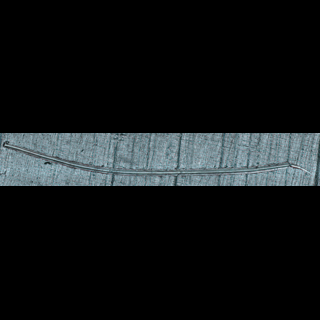d: (2, 139, 314, 178)
